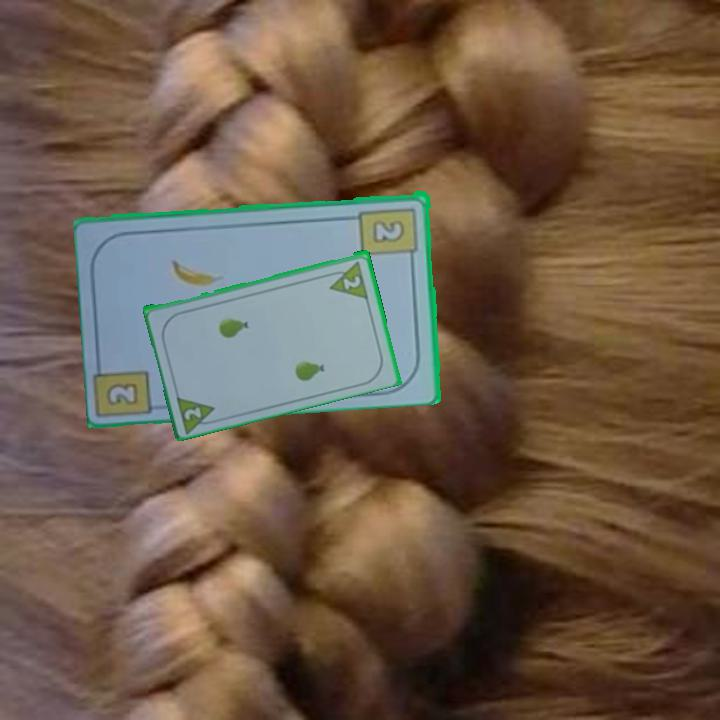2b: (357, 203, 421, 265), (102, 378, 142, 409)
2p: (324, 257, 371, 301), (181, 403, 205, 422)
